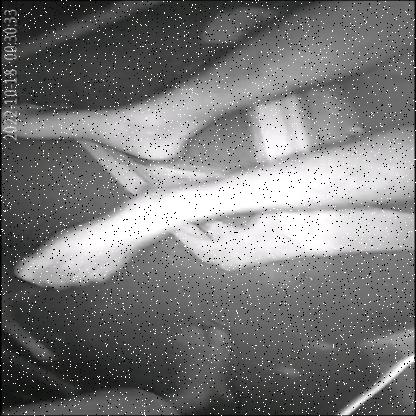leg: (7, 124, 416, 298), (0, 0, 413, 169), (144, 305, 272, 416)
